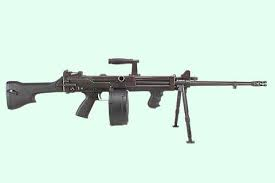Arma Real: (7, 56, 267, 143)
